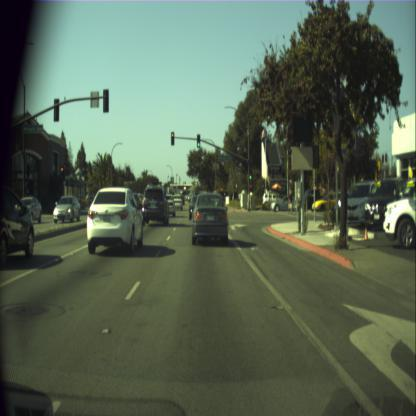Green: (248, 169, 252, 180), (197, 134, 200, 148)
Red: (170, 131, 174, 145)
RedLeft: (60, 166, 64, 178)
